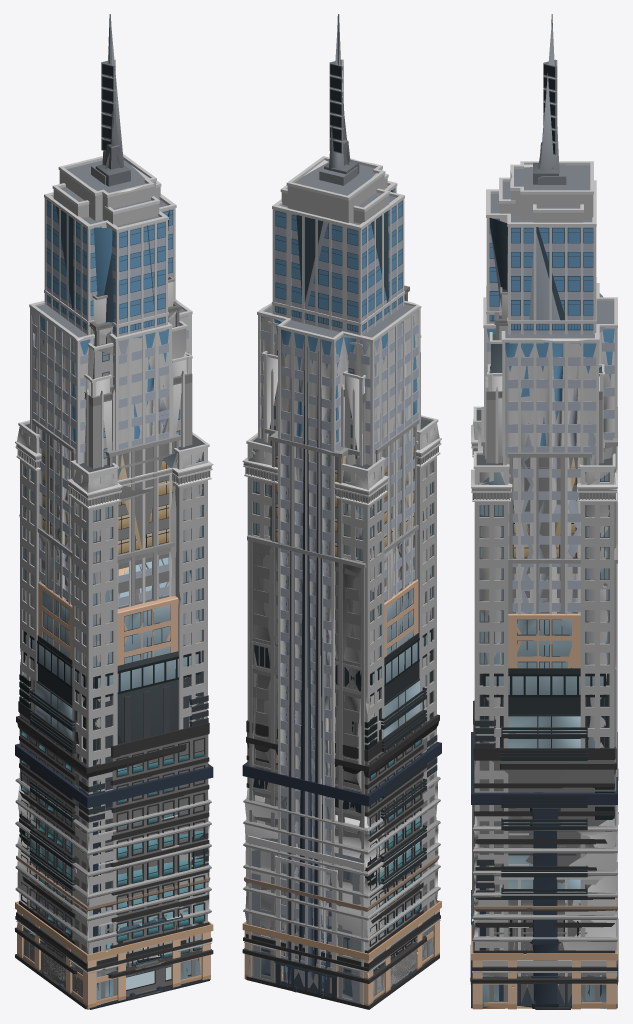
The model's file is showcase.glb.
The picture shows the model from 3 angles, left to right: view 1: azimuth 30°, elevation 25°; view 2: azimuth 150°, elevation 25°; view 3: azimuth 270°, elevation 25°; orthographic projection.
Parts seen in each view (by area): view 1: skyscraper-03_near, skyscraper-04_near, office-02_near, skyscraper-04_far, office-02_far, office-03_near, skyscraper-06_near, skyscraper-03_far, skyscraper-02_near, office-03_far, office-08_near, office-05_near (+9 smaller); view 2: skyscraper-04_near, skyscraper-04_far, skyscraper-03_near, skyscraper-02_near, skyscraper-02_far, office-02_near, office-03_near, office-08_near, office-08_far, skyscraper-06_near, office-05_near, skyscraper-01_near (+10 smaller); view 3: skyscraper-04_near, skyscraper-03_near, skyscraper-04_far, office-03_near, office-02_near, office-02_far, skyscraper-06_near, skyscraper-02_near, office-08_near, office-08_far, skyscraper-03_far, office-03_far (+10 smaller).
Part boxes in pixels (left/top/right/bottom): skyscraper-03_near: left=15, top=301, right=213, bottom=1000; skyscraper-04_near: left=25, top=14, right=192, bottom=973; office-02_near: left=15, top=701, right=213, bottom=995; skyscraper-04_far: left=31, top=27, right=189, bottom=606; office-02_far: left=15, top=713, right=212, bottom=990; office-03_near: left=19, top=631, right=208, bottom=943; skyscraper-06_near: left=15, top=582, right=213, bottom=1009; skyscraper-03_far: left=16, top=311, right=202, bottom=980; skyscraper-02_near: left=19, top=419, right=180, bottom=963; office-03_far: left=20, top=632, right=208, bottom=943; office-08_near: left=15, top=778, right=211, bottom=1009; office-05_near: left=15, top=716, right=186, bottom=1009; skyscraper-04_near: left=257, top=14, right=425, bottom=998; skyscraper-04_far: left=261, top=27, right=418, bottom=995; skyscraper-03_near: left=242, top=285, right=441, bottom=996; skyscraper-02_near: left=247, top=419, right=419, bottom=999; skyscraper-02_far: left=252, top=434, right=414, bottom=955; office-02_near: left=242, top=708, right=426, bottom=983; office-03_near: left=352, top=629, right=437, bottom=914; office-08_near: left=243, top=776, right=440, bottom=971; office-08_far: left=244, top=777, right=440, bottom=971; skyscraper-06_near: left=242, top=579, right=441, bottom=1005; office-05_near: left=246, top=714, right=439, bottom=1009; skyscraper-01_near: left=247, top=534, right=365, bottom=1004; skyscraper-04_near: left=483, top=14, right=617, bottom=1006; skyscraper-03_near: left=471, top=312, right=617, bottom=1001; skyscraper-04_far: left=486, top=24, right=614, bottom=1006; office-03_near: left=474, top=668, right=614, bottom=936; office-02_near: left=471, top=700, right=617, bottom=1004; office-02_far: left=470, top=760, right=618, bottom=982; skyscraper-06_near: left=471, top=613, right=617, bottom=1009; skyscraper-02_near: left=481, top=407, right=617, bottom=846; office-08_near: left=471, top=805, right=617, bottom=1008; office-08_far: left=472, top=769, right=618, bottom=1006; skyscraper-03_far: left=472, top=315, right=617, bottom=976; office-03_far: left=479, top=673, right=605, bottom=892.
Bounding box in the file's own units: 14.08 × 101 × 14.09.
4 materials, 1 textured.
